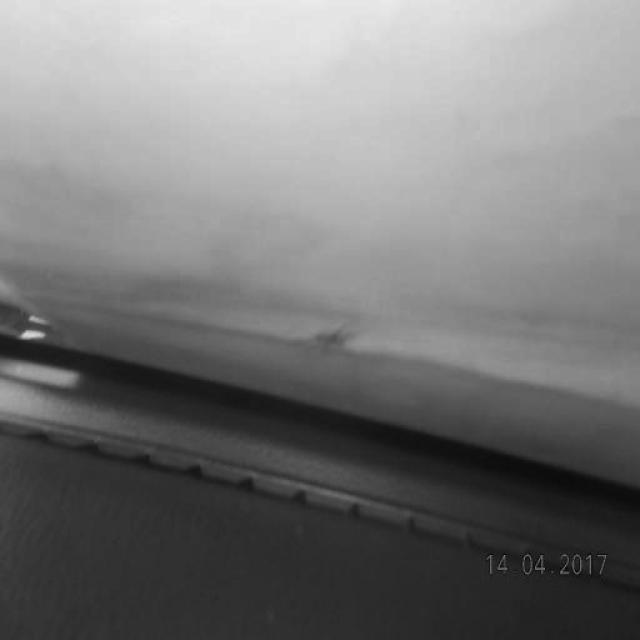car damage: (297, 313, 372, 369)
